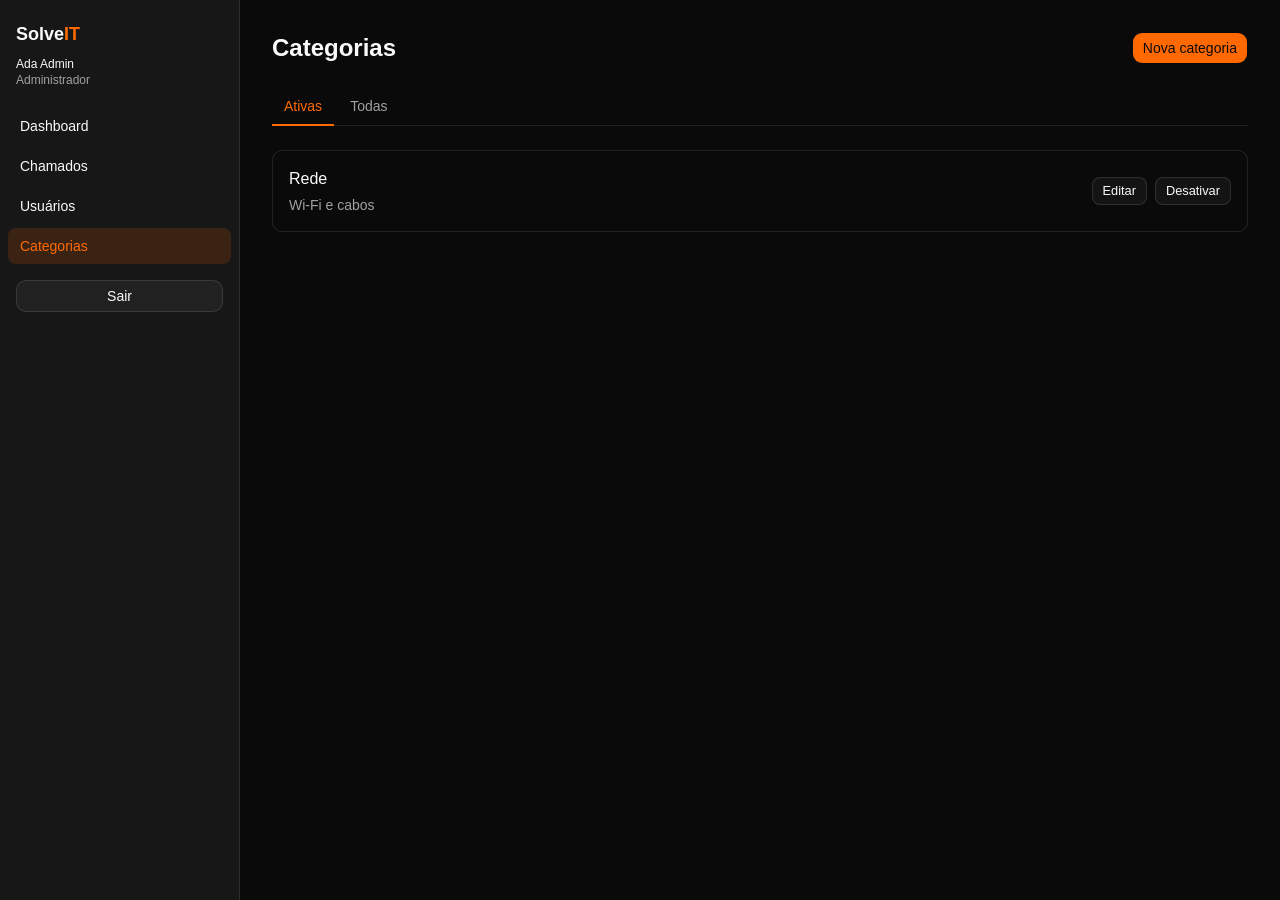
Test: administração de categorias › mostra só as ativas e, na aba Todas, pede também as inativas
Check: the text "Impressoras" is not shown
Click the tab "Todas". click: (369, 107)
box: left=338, top=88, right=400, bottom=126
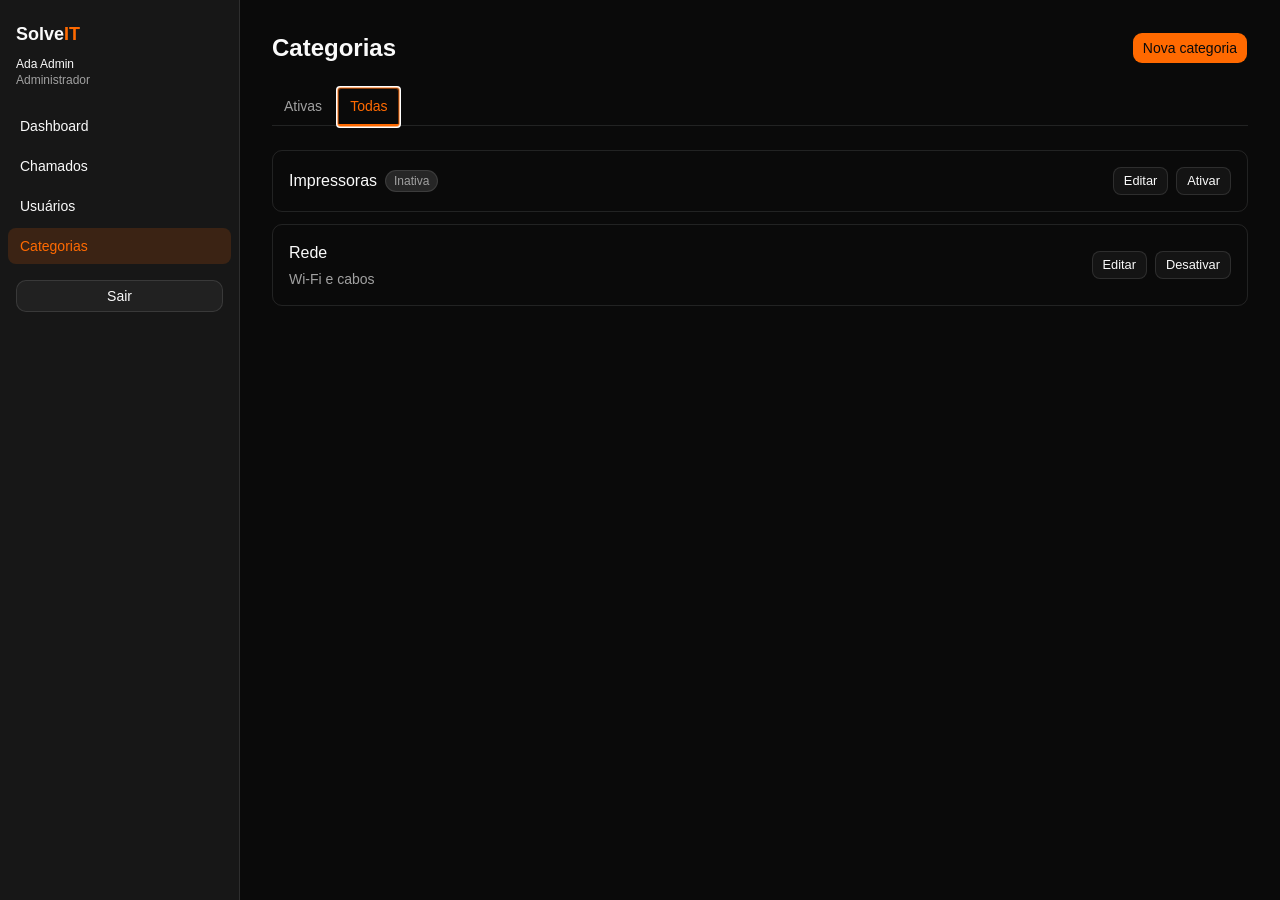
Check: the text "Inativa" is shown, box left=385, top=170, right=438, bottom=192
